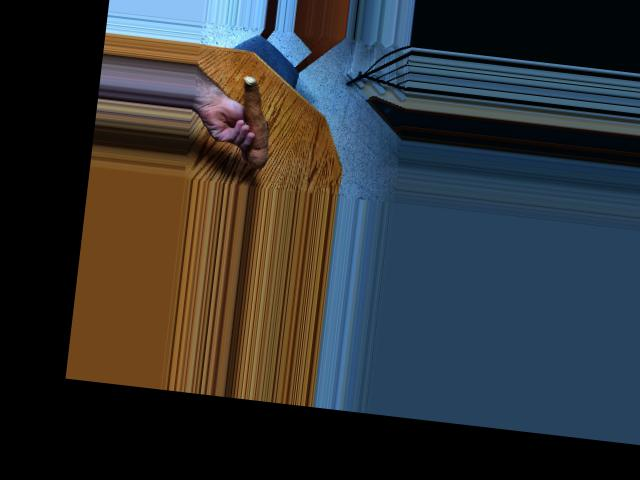sweet_potato: (230, 79, 280, 165)
